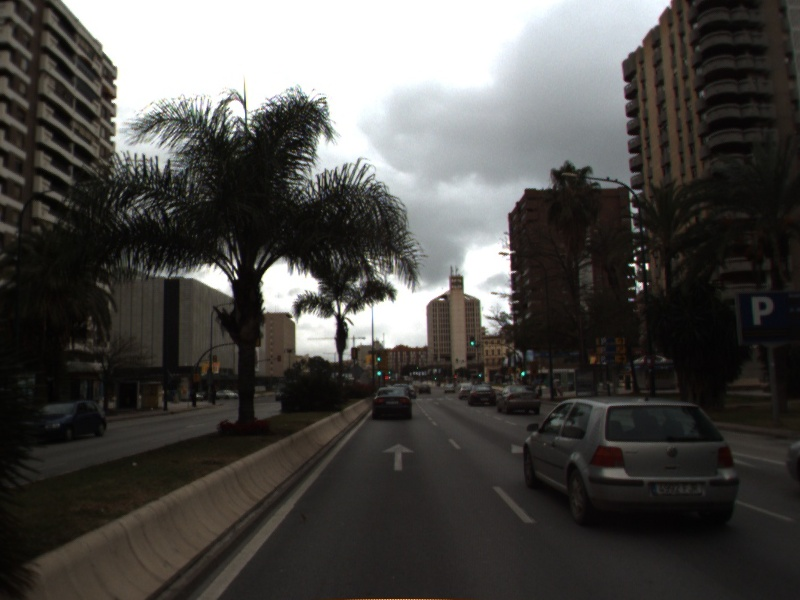STRAIGHT: (380, 441, 417, 473)
